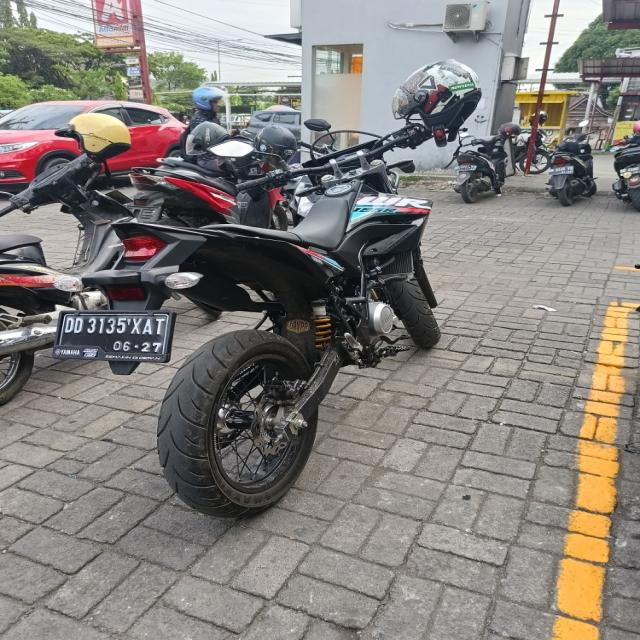plates: (60, 308, 177, 354)
